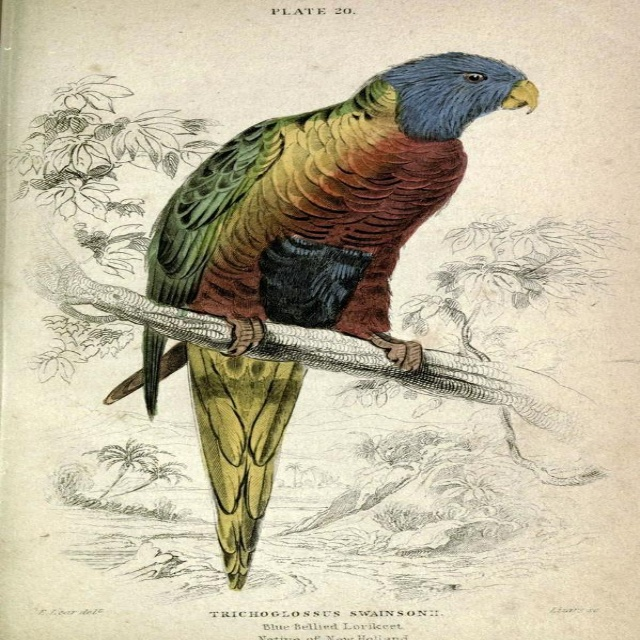Parrot: (101, 50, 543, 587)
